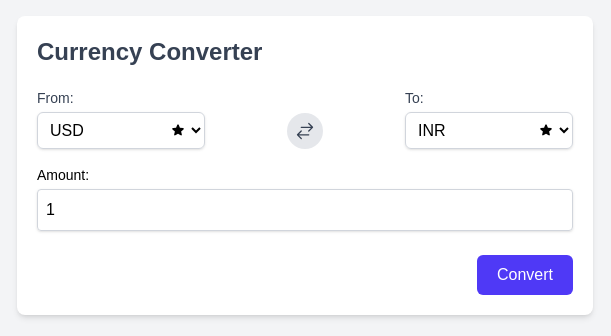
Scenario: Currency Converter App › swaps currencies when swap button is clicked
Click the button named "swap-currencies". click: (305, 131)
box: [287,113,323,149]
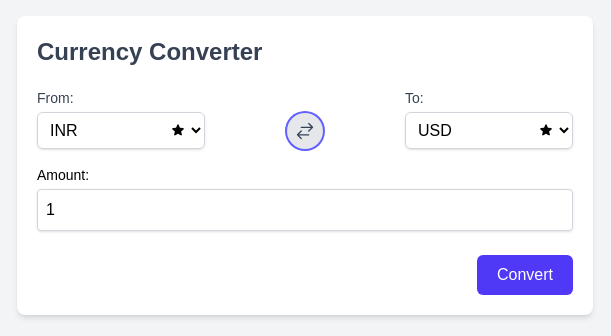
Check: the dropdown below "From:" shows "INR", box [37,112,205,149]
Check: the dropdown below "To:" shows "USD", box [405,112,573,149]
